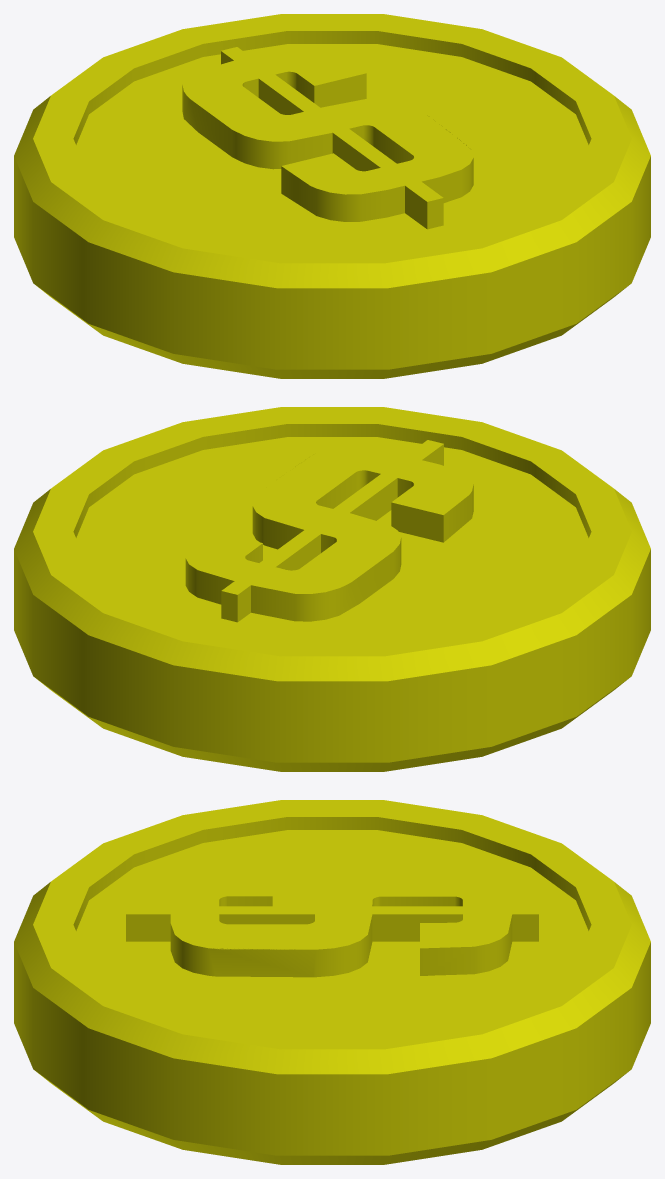
Rendered from Open.glb.
The picture shows the model from 3 angles, top to bottom: view 1: azimuth 30°, elevation 25°; view 2: azimuth 150°, elevation 25°; view 3: azimuth 270°, elevation 25°; orthographic projection.
Parts seen in each view (by area): view 1: Cylinder; view 2: Cylinder; view 3: Cylinder.
Part boxes in pixels (left/top/right/bottom): Cylinder: left=14, top=14, right=650, bottom=378; Cylinder: left=14, top=407, right=650, bottom=771; Cylinder: left=14, top=800, right=650, bottom=1164.
Bounding box in the file's own units: 1.97 × 0.5 × 2.
